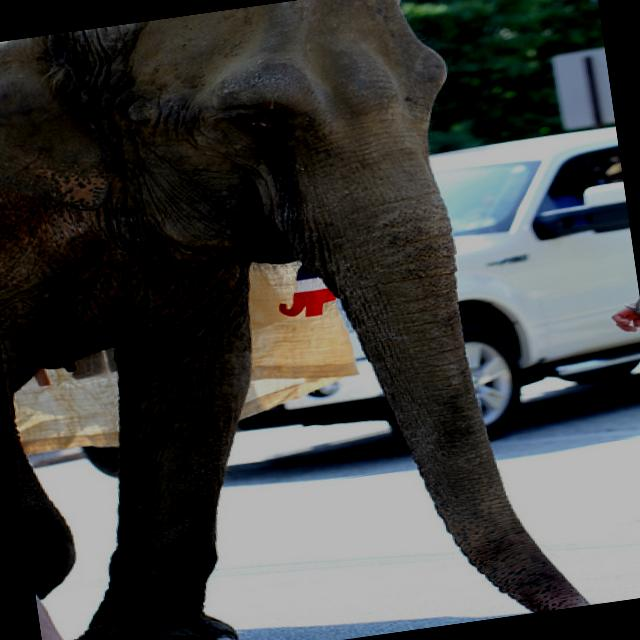Vehicle: (43, 122, 640, 493)
